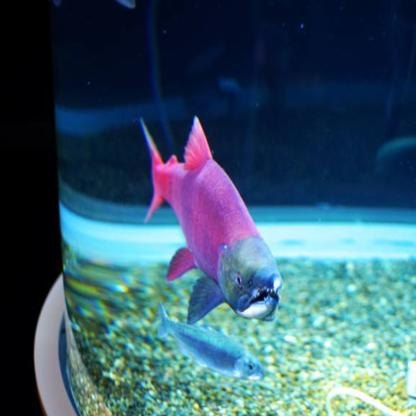sockeye: (141, 108, 281, 327)
